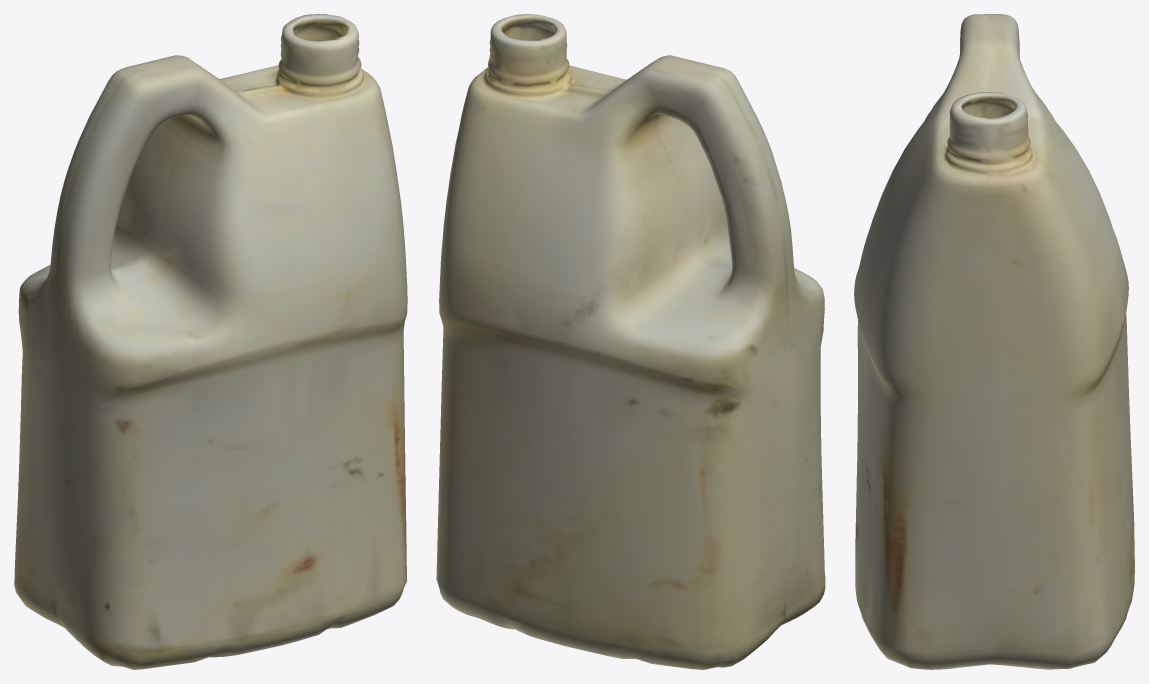
Rendered from plastic_bottle_gallon.glb.
3 renders of one model, left to right at view 1: azimuth 30°, elevation 25°; view 2: azimuth 150°, elevation 25°; view 3: azimuth 270°, elevation 25°, orthographic.
Parts seen in each view (by area): view 1: plastic_bottle_gallon; view 2: plastic_bottle_gallon; view 3: plastic_bottle_gallon.
Part boxes in pixels (x1,y1,x2,y2): plastic_bottle_gallon: (14, 14, 407, 669); plastic_bottle_gallon: (436, 14, 825, 669); plastic_bottle_gallon: (854, 14, 1134, 669).
Size of the model in its own units: 0.1662 by 0.2745 by 0.1263.
1 material, 1 textured.
